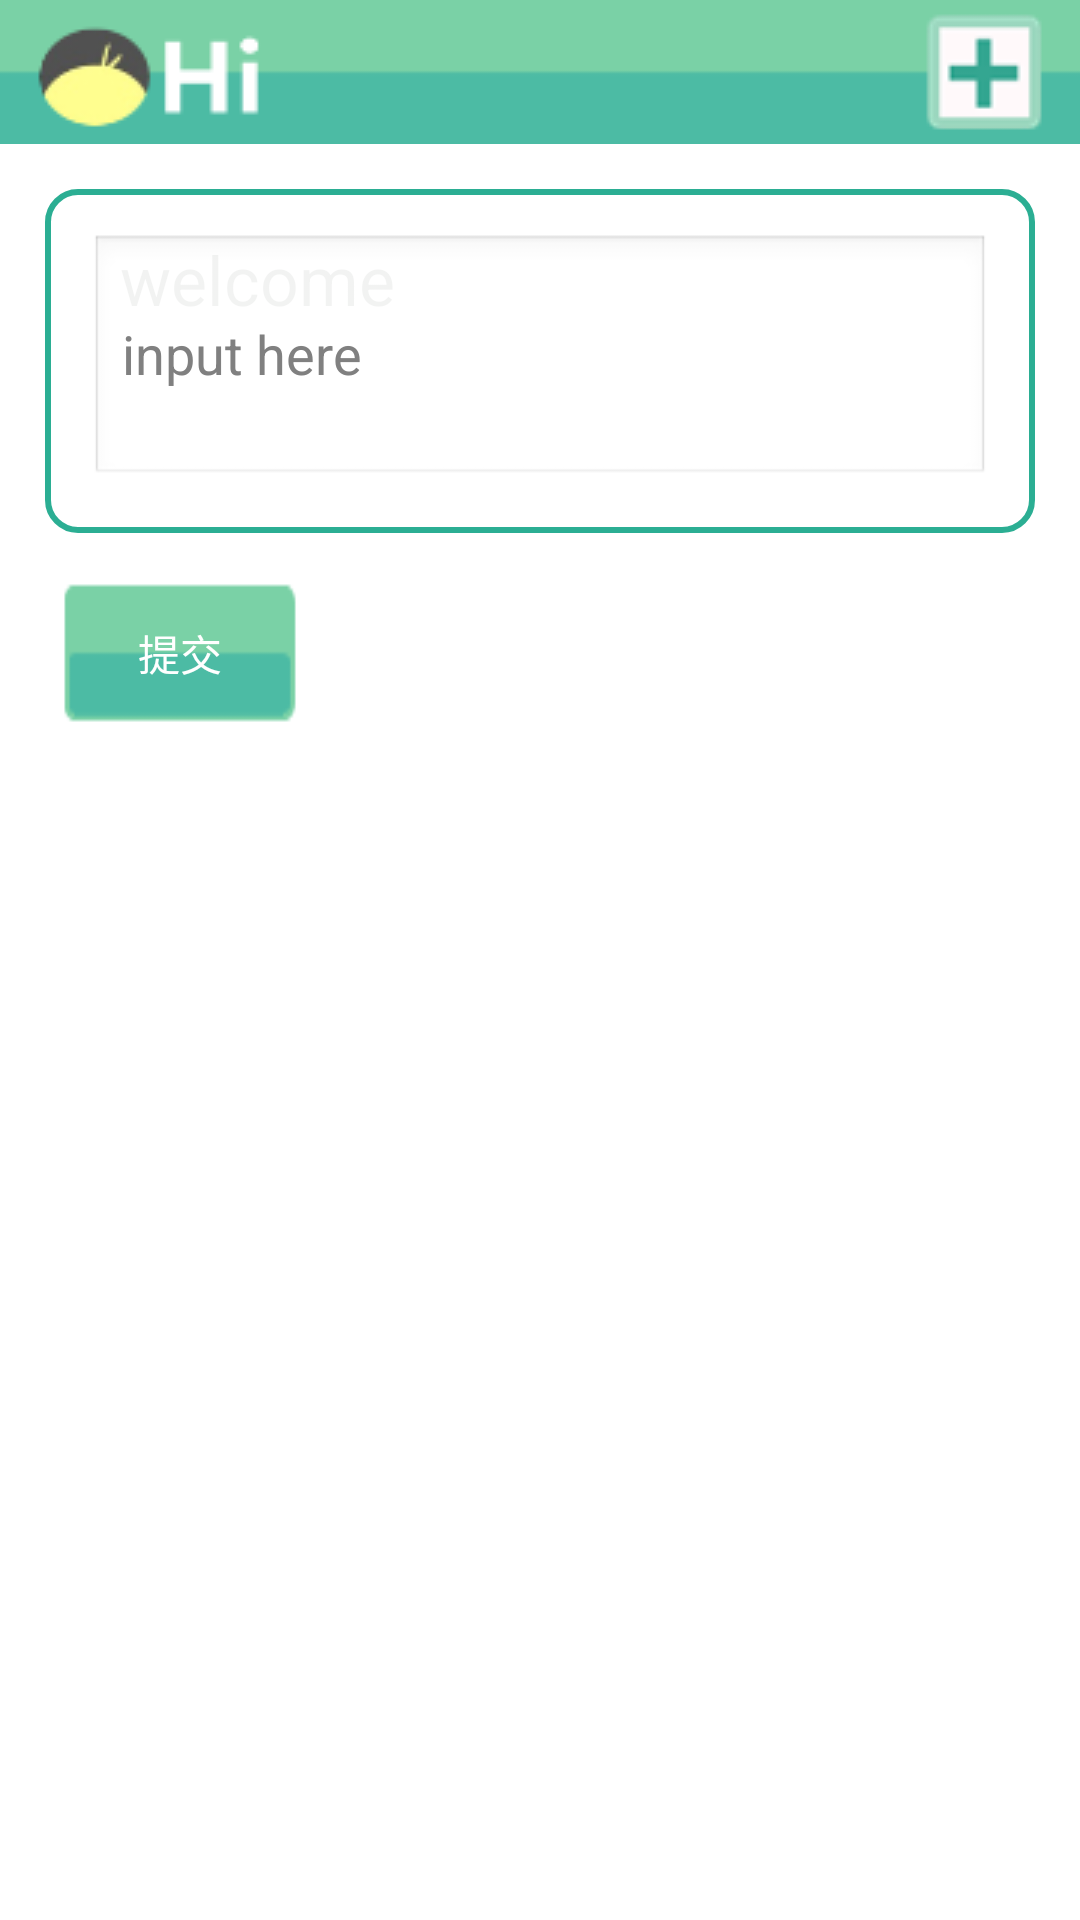

Icons on this 1080 × 1920 Android screen, each with the point to tap as point (x, y):
add: point (984, 72)
